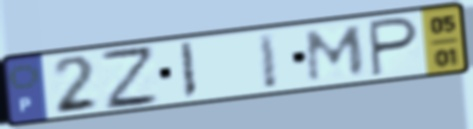2: (49, 53, 102, 116)
I: (255, 30, 281, 92), (177, 39, 199, 102)
M: (304, 23, 367, 84)
P: (366, 14, 422, 79)
Z: (97, 45, 163, 113)
